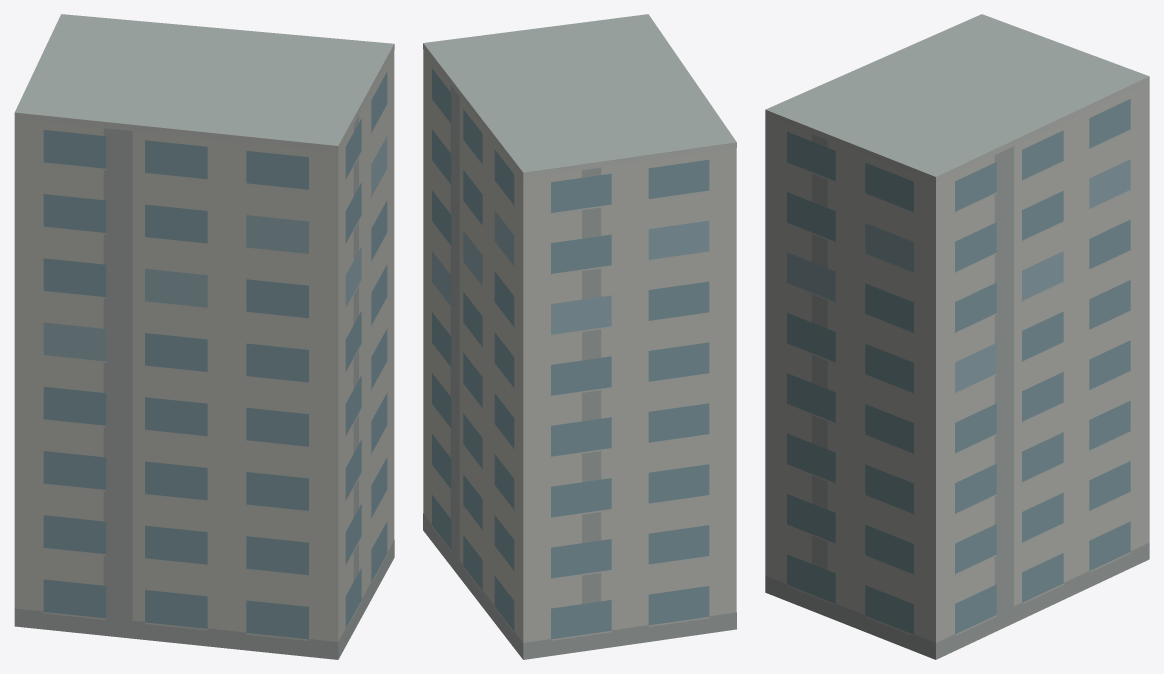
The model's file is survey-upis-32828658.glb.
3 views of the same model, side by side, from view 1: azimuth 30°, elevation 25°; view 2: azimuth 150°, elevation 25°; view 3: azimuth 270°, elevation 25° (orthographic). The views are drawn at different scales.
Parts seen in each view (by area): view 1: survey-upis-32828658.tmp; view 2: survey-upis-32828658.tmp; view 3: survey-upis-32828658.tmp.
Part boxes in pixels (x1=…): survey-upis-32828658.tmp: x1=14, y1=14, x2=394, y2=659; survey-upis-32828658.tmp: x1=423, y1=14, x2=736, y2=659; survey-upis-32828658.tmp: x1=765, y1=14, x2=1149, y2=659.
Size of the model in its own units: 14.19 by 19.6 by 14.15.
